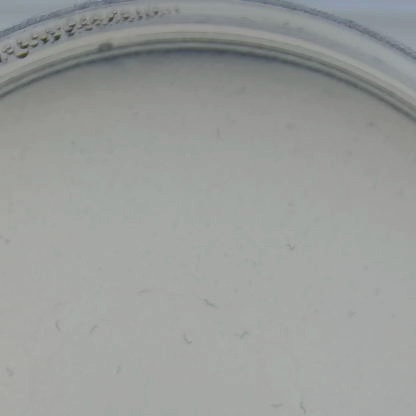worm: (280, 234, 310, 254), (175, 329, 199, 353), (229, 326, 259, 343), (50, 312, 67, 341), (294, 395, 317, 416), (81, 319, 101, 343), (199, 293, 221, 314), (266, 399, 285, 415), (0, 231, 16, 247), (133, 288, 155, 299), (0, 365, 15, 381), (213, 127, 226, 145)
